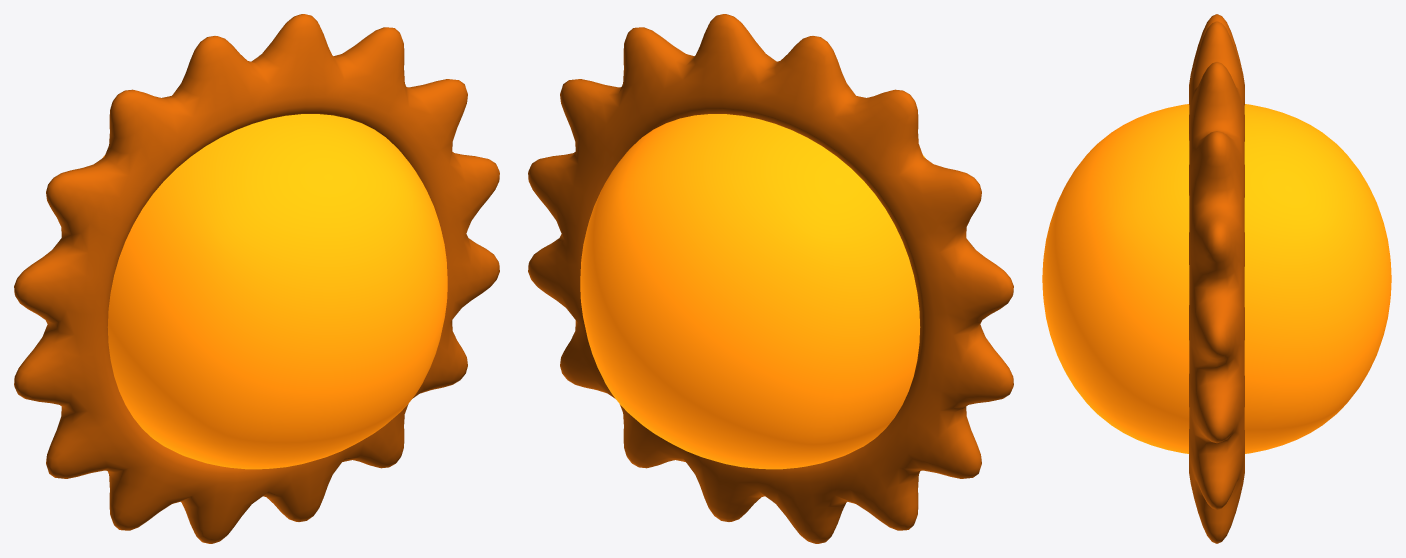
File: sun.glb
3 views of the same model, side by side, from view 1: azimuth 30°, elevation 25°; view 2: azimuth 150°, elevation 25°; view 3: azimuth 270°, elevation 25° (orthographic). The views are drawn at different scales.
Visible parts, largest first — view 1: Sun.001, SunLight; view 2: Sun.001, SunLight; view 3: Sun.001, SunLight.
Part boxes in pixels (bbox=[...]): Sun.001: bbox=[102, 114, 447, 469]; SunLight: bbox=[14, 14, 499, 543]; Sun.001: bbox=[580, 114, 925, 469]; SunLight: bbox=[528, 14, 1013, 543]; Sun.001: bbox=[1042, 104, 1391, 453]; SunLight: bbox=[1189, 14, 1244, 543].
Size of the model in its own units: 8.46 by 8.46 by 5.68.
